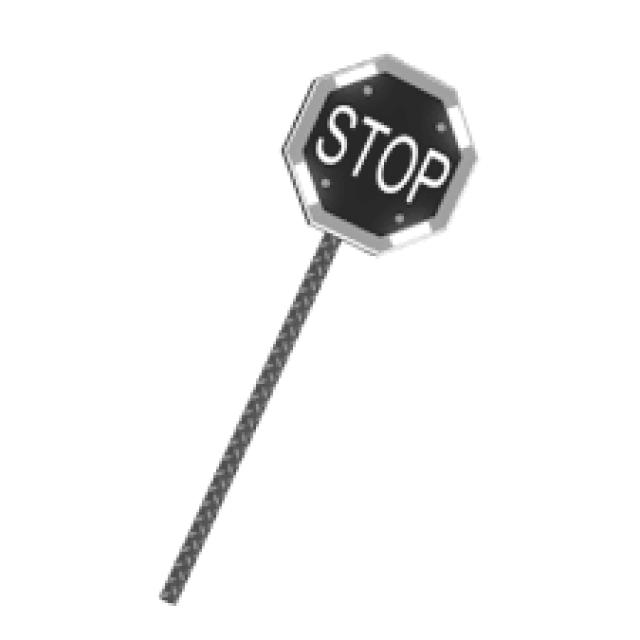stop sign: (283, 55, 471, 248)
